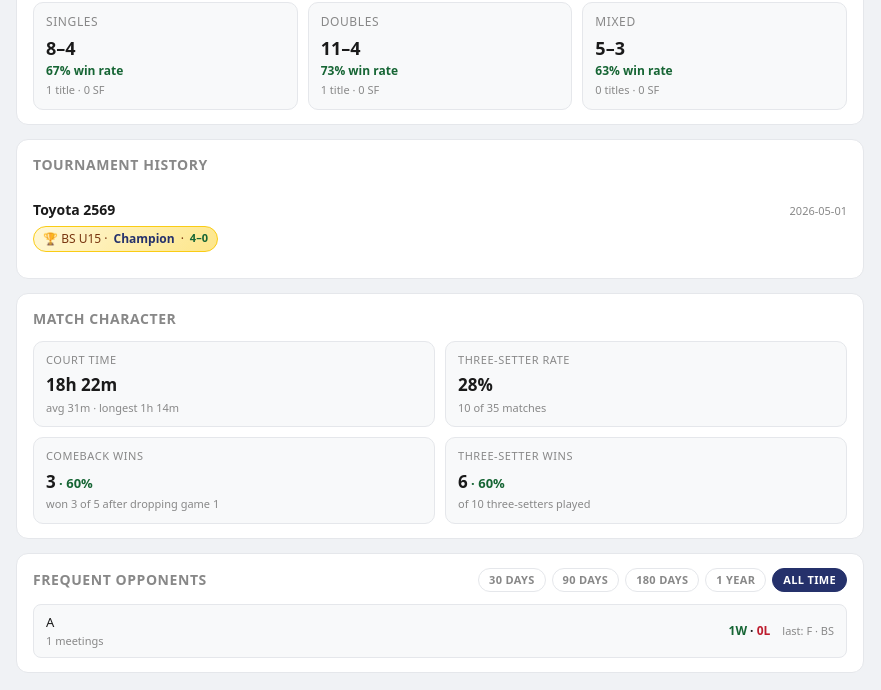
PlayerProfileView › empty window shows the empty-state message but keeps the tab strip
This screenshot has width=881, height=690.
(page scrolled)
What coordinates should you click on to do the following:
click the tab "30 Days"
I would click on:
 (512, 580)
Its box is x1=478 y1=568 x2=546 y2=592.
(page scrolled)
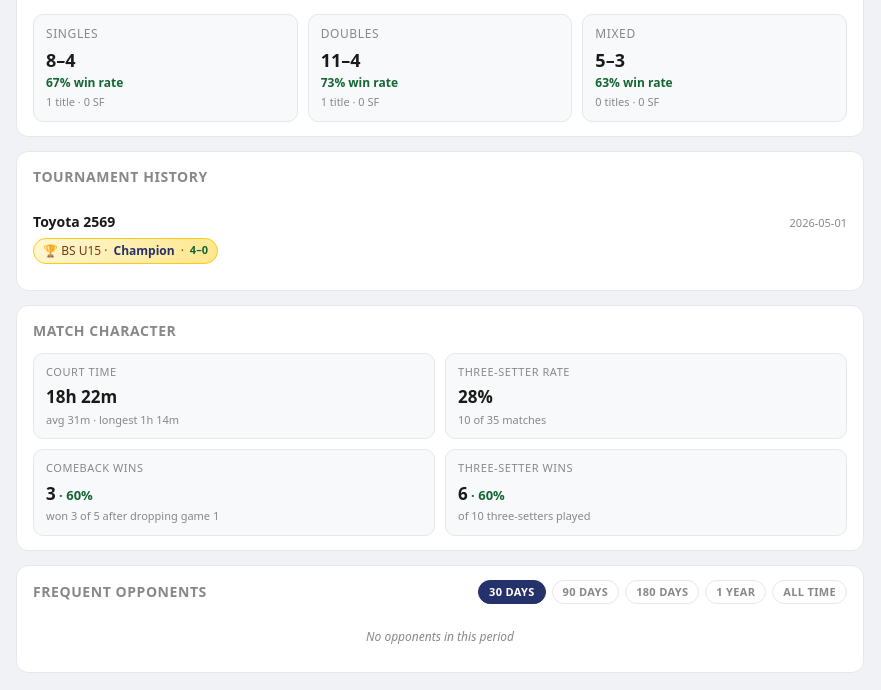
Expected: the tab "All Time" is shown, x1=772 y1=580 x2=847 y2=604
Expected: the text "No opponents in this period" is shown, x1=366 y1=628 x2=514 y2=645
